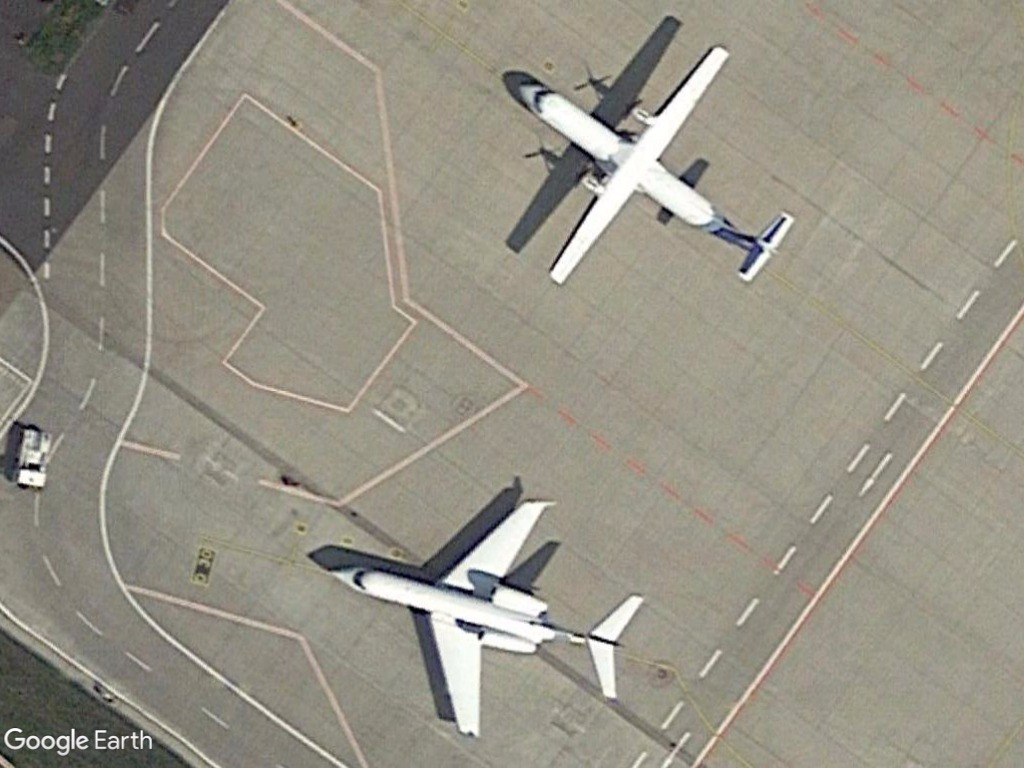chartered: (321, 479, 652, 746)
propeller: (489, 25, 806, 306)
